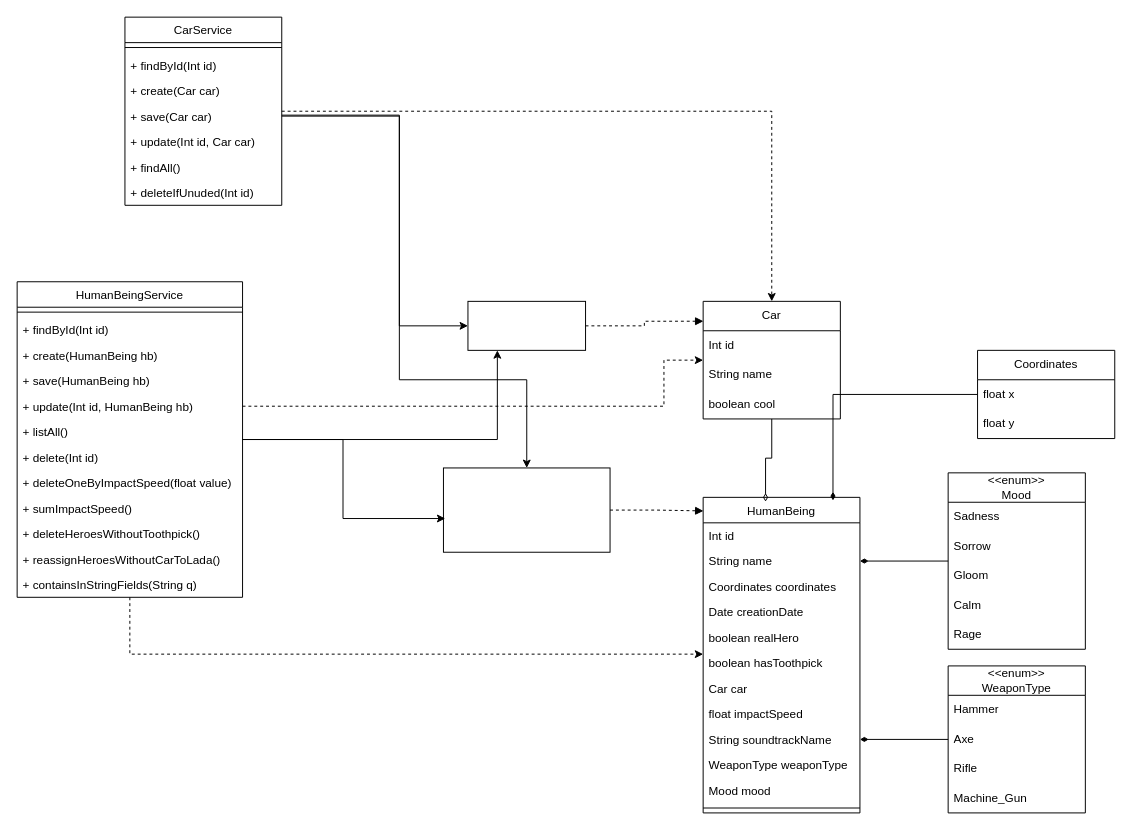
Image size: 1132x830. Some labels were removed from this diagram. The centre of each missing label's shape, as x and y in pixels:
«interface» CarRepository: [526,325]
«interface» HumanBeingRepository: [526,509]
